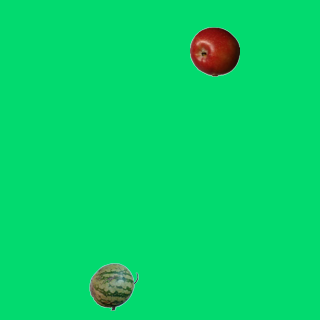Apple Braeburn: (189, 26, 239, 76)
Watermelon: (88, 261, 138, 311)
